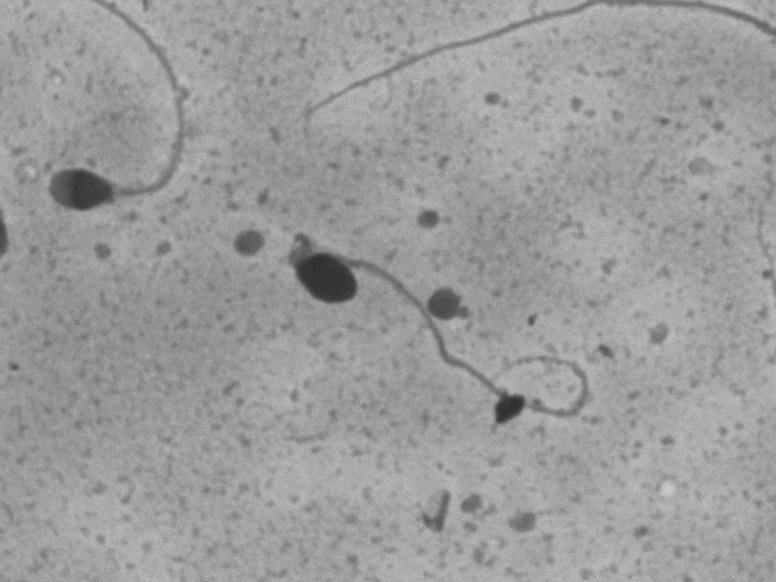Abnormal: (270, 184, 642, 438)
Normal: (34, 18, 232, 257)
